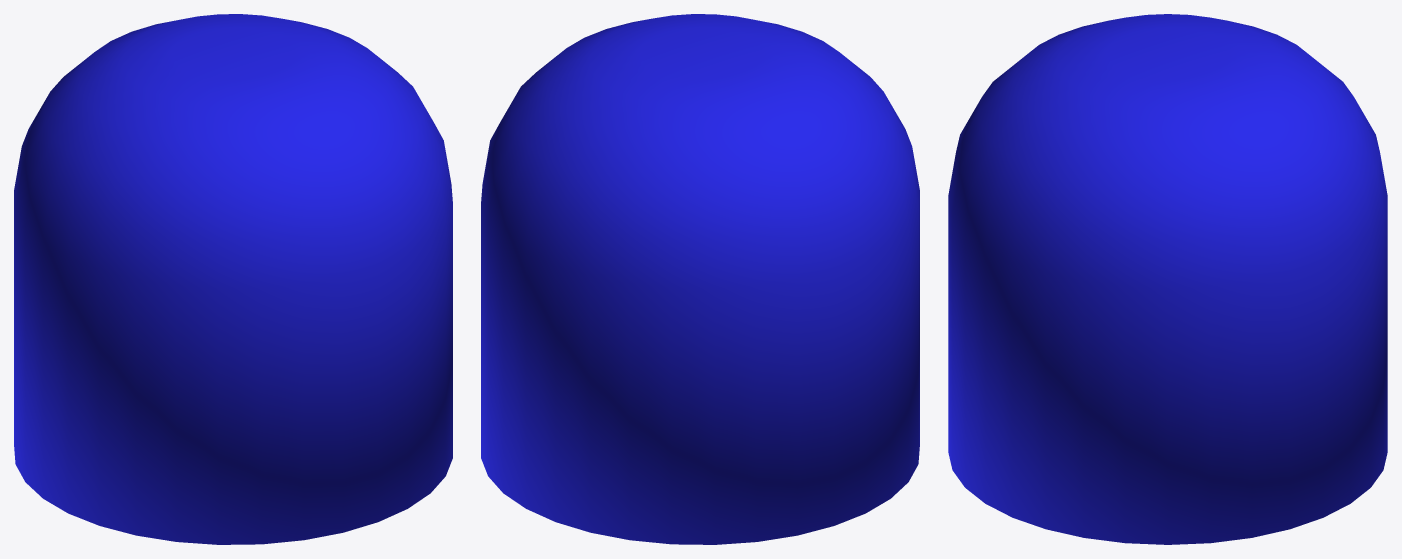
File: AnomalyBoton1Bolita.fbx
The picture shows the model from 3 angles, left to right: view 1: azimuth 30°, elevation 25°; view 2: azimuth 150°, elevation 25°; view 3: azimuth 270°, elevation 25°; orthographic projection.
Parts seen in each view (by area): view 1: Cube.015; view 2: Cube.015; view 3: Cube.015.
Boxes of the visible parts, left/top/right/bottom form: Cube.015: left=14, top=14, right=452, bottom=544; Cube.015: left=481, top=14, right=919, bottom=544; Cube.015: left=948, top=14, right=1387, bottom=544.
Size of the model in its own units: 2.45 by 2.45 by 2.45.
